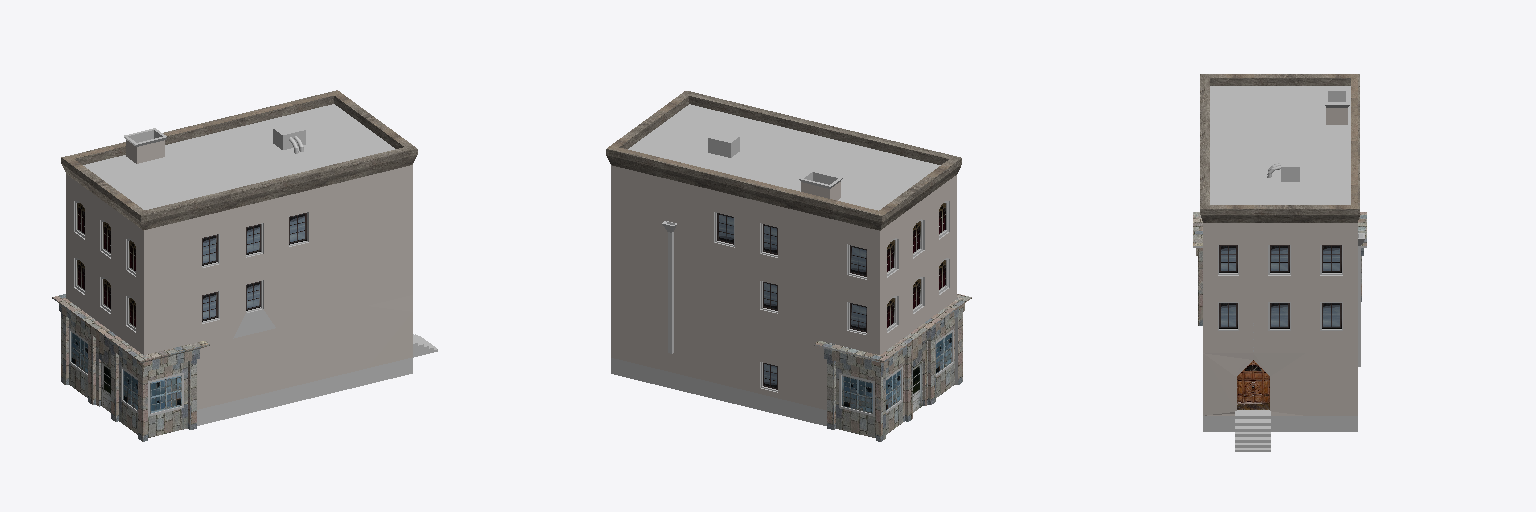
3 renders of one model, left to right at view 1: azimuth 30°, elevation 25°; view 2: azimuth 150°, elevation 25°; view 3: azimuth 270°, elevation 25°, orthographic.
Parts seen in each view (by area): view 1: Cube.002, Cube.001; view 2: Cube.002, Cube.001; view 3: Cube.002, Cube.001.
Boxes of the visible parts, x1=… form: Cube.002: x1=52, y1=90, x2=437, y2=441; Cube.001: x1=71, y1=203, x2=306, y2=413; Cube.002: x1=606, y1=91, x2=971, y2=441; Cube.001: x1=717, y1=203, x2=951, y2=413; Cube.002: x1=1193, y1=74, x2=1366, y2=451; Cube.001: x1=1219, y1=245, x2=1341, y2=328.
Bounding box in the file's own units: 7.65 × 5.42 × 3.62.
13 materials, 7 textured.